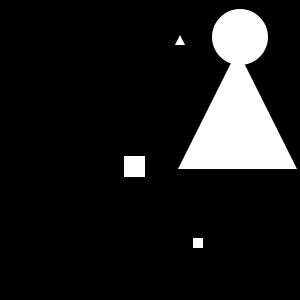circle: (124, 156, 145, 177), (193, 238, 203, 248)
rectangle: (212, 9, 268, 65)
triangle: (178, 50, 297, 169), (175, 35, 185, 45)
